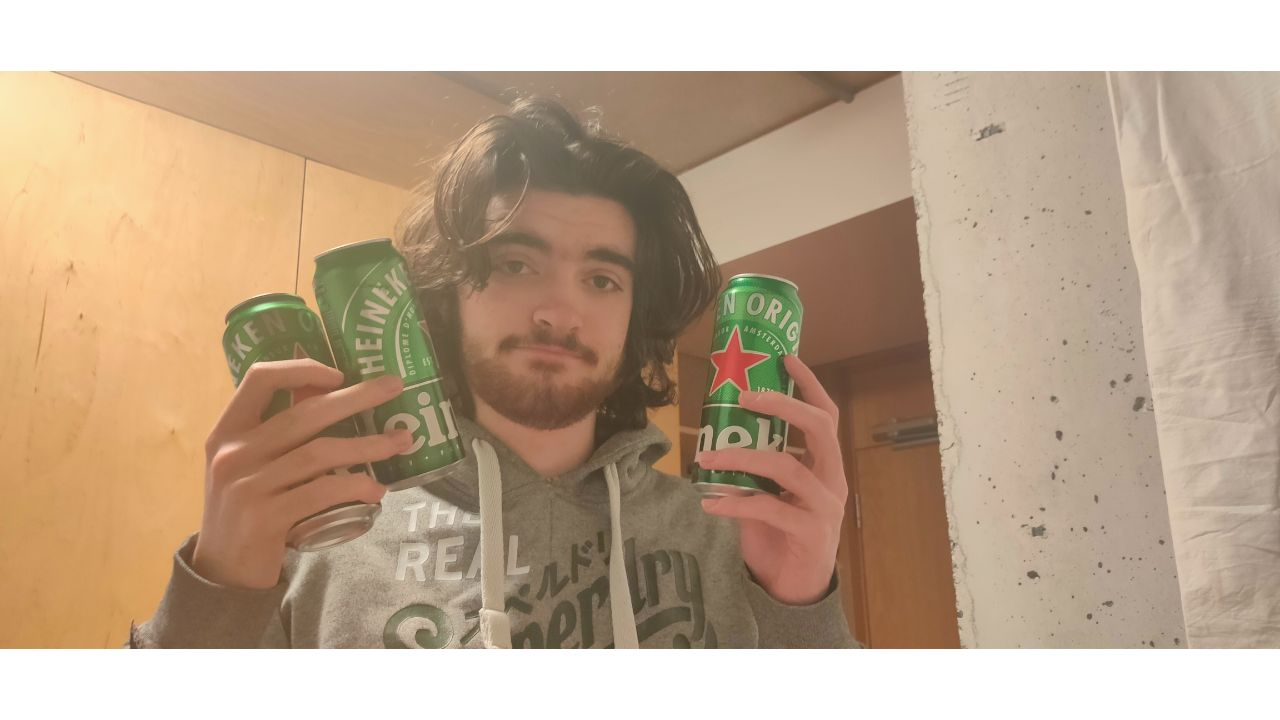Can: (223, 292, 382, 555), (310, 236, 466, 489), (692, 274, 802, 497)
